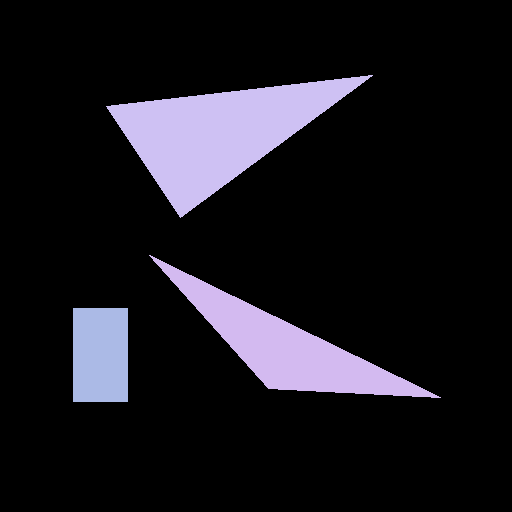rectangle: (73, 308, 127, 401)
triangle: (149, 255, 440, 397), (106, 75, 372, 217)
